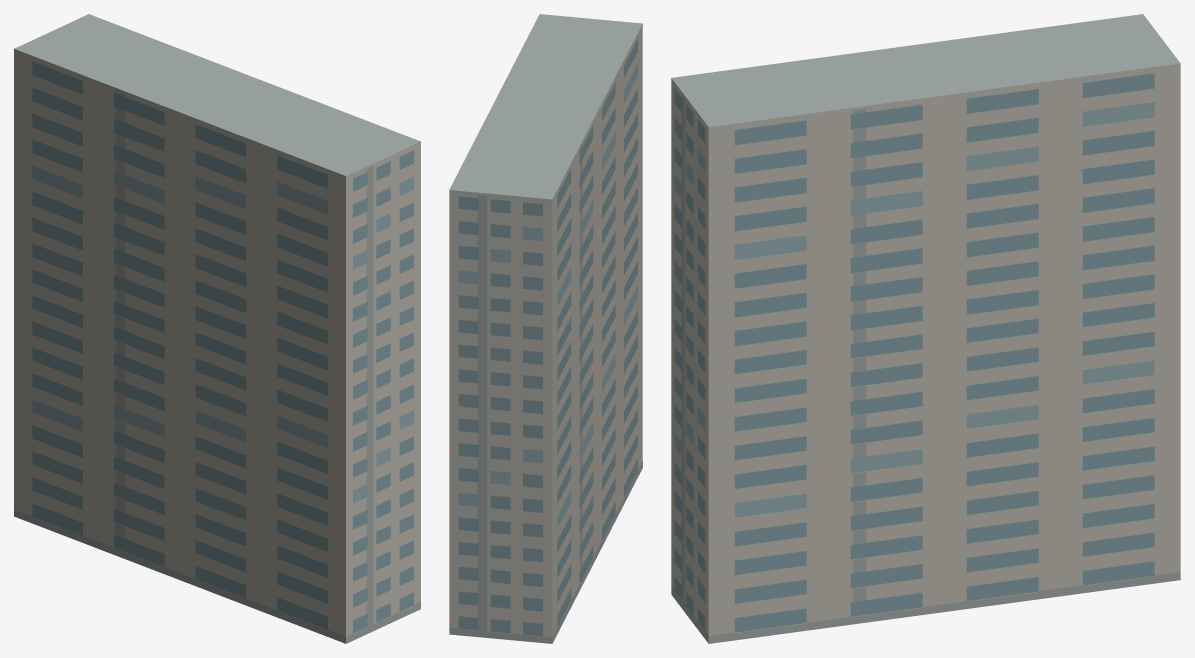
Rendered from residential-3bc79b27-7357-40ad-a54c-6afdd895e931.glb.
3 renders of one model, left to right at view 1: azimuth 30°, elevation 25°; view 2: azimuth 150°, elevation 25°; view 3: azimuth 270°, elevation 25°, orthographic. The views are drawn at different scales.
Parts seen in each view (by area): view 1: residential-3bc79b27-7357-40ad-a54c-6afdd895e931.tmp; view 2: residential-3bc79b27-7357-40ad-a54c-6afdd895e931.tmp; view 3: residential-3bc79b27-7357-40ad-a54c-6afdd895e931.tmp.
Boxes of the visible parts, bbox=[...] form: residential-3bc79b27-7357-40ad-a54c-6afdd895e931.tmp: bbox=[14, 14, 420, 643]; residential-3bc79b27-7357-40ad-a54c-6afdd895e931.tmp: bbox=[449, 14, 642, 643]; residential-3bc79b27-7357-40ad-a54c-6afdd895e931.tmp: bbox=[671, 14, 1180, 643].
Bounding box in the file's own units: 23.05 × 49 × 43.78.
